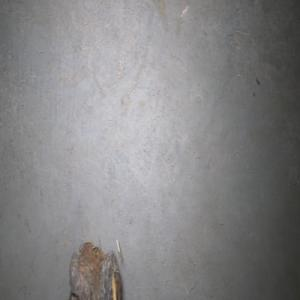Rock: (68, 235, 121, 300)
